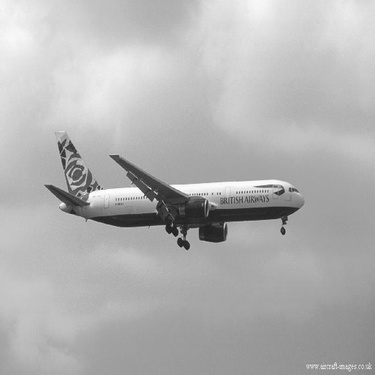airplane: (42, 123, 309, 256)
